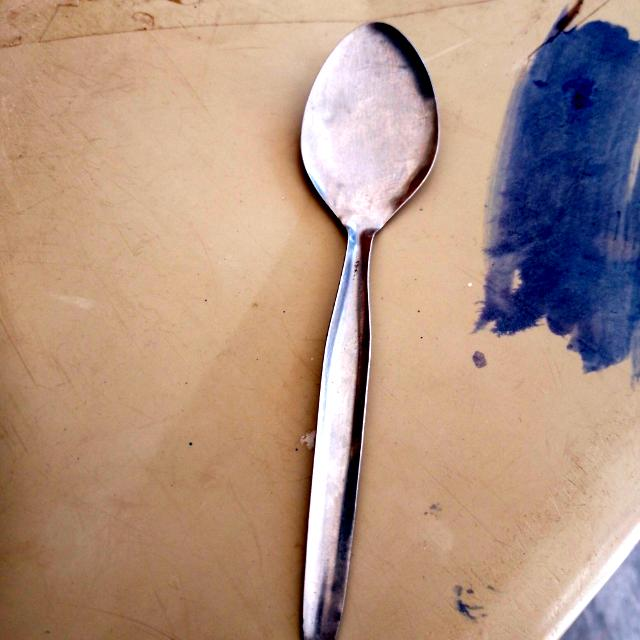Spoon: (302, 24, 438, 639)
